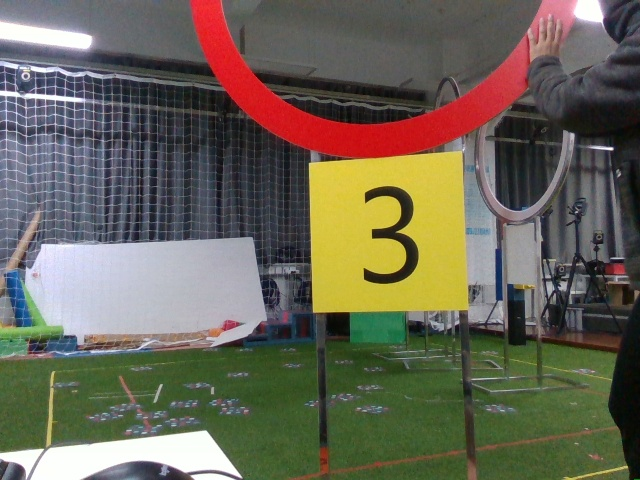target: (314, 160, 458, 302)
